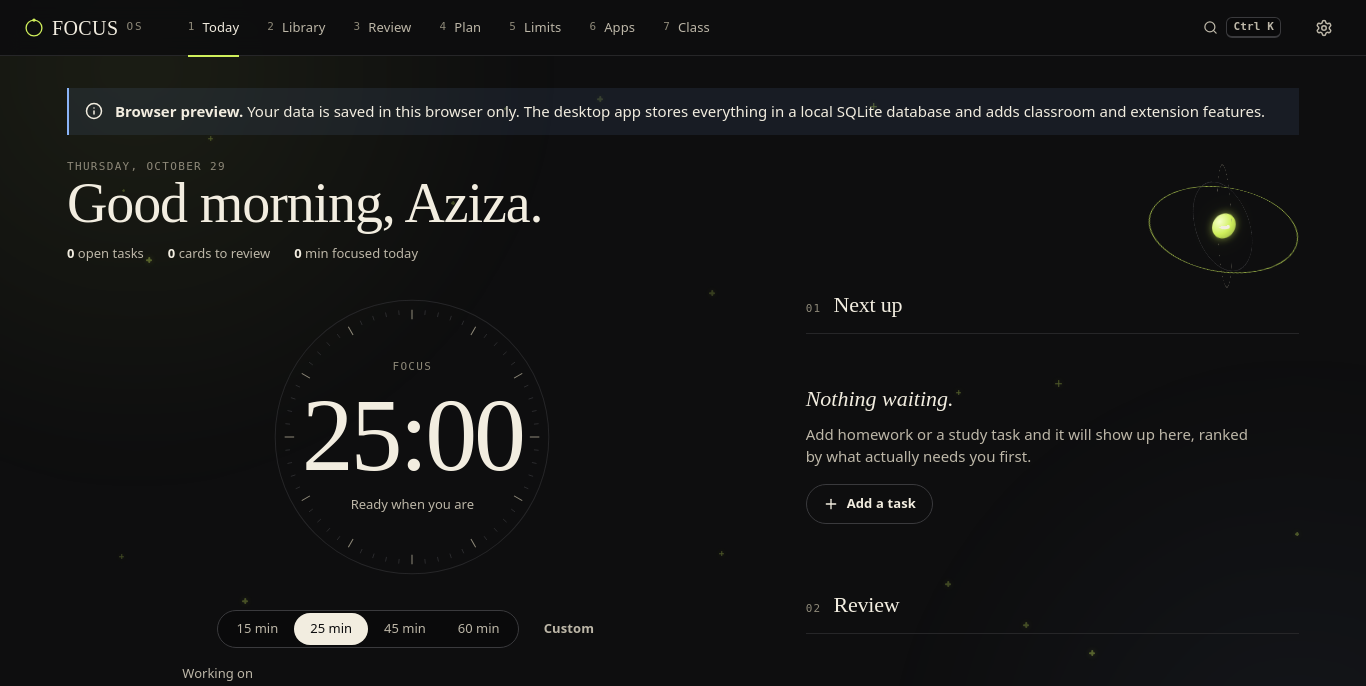
it: navigation, palette and shortcuts › number keys and the command palette move between sections
Check: the text "25:00" is shown, box [302,383,523,487]
Type keys "4"
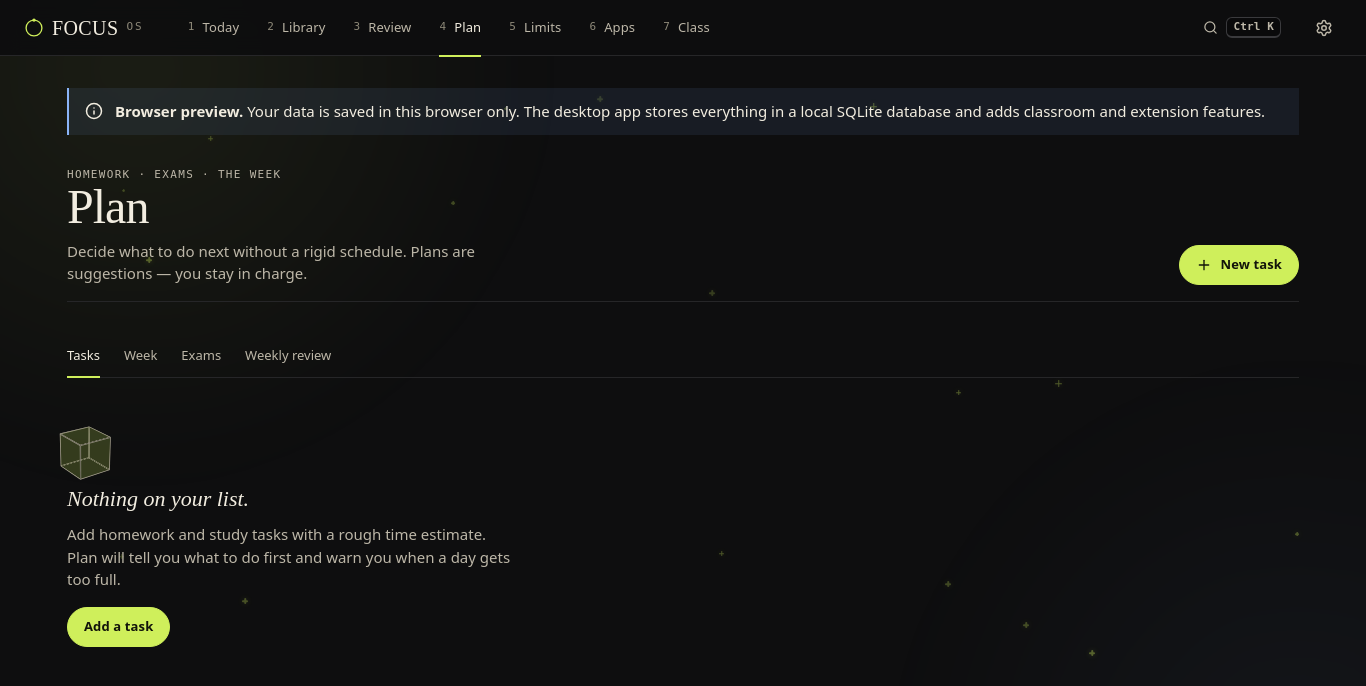
Check: the heading "Plan" is shown, box [67,180,148,233]
Type keys "{Control>}k{/Control}"
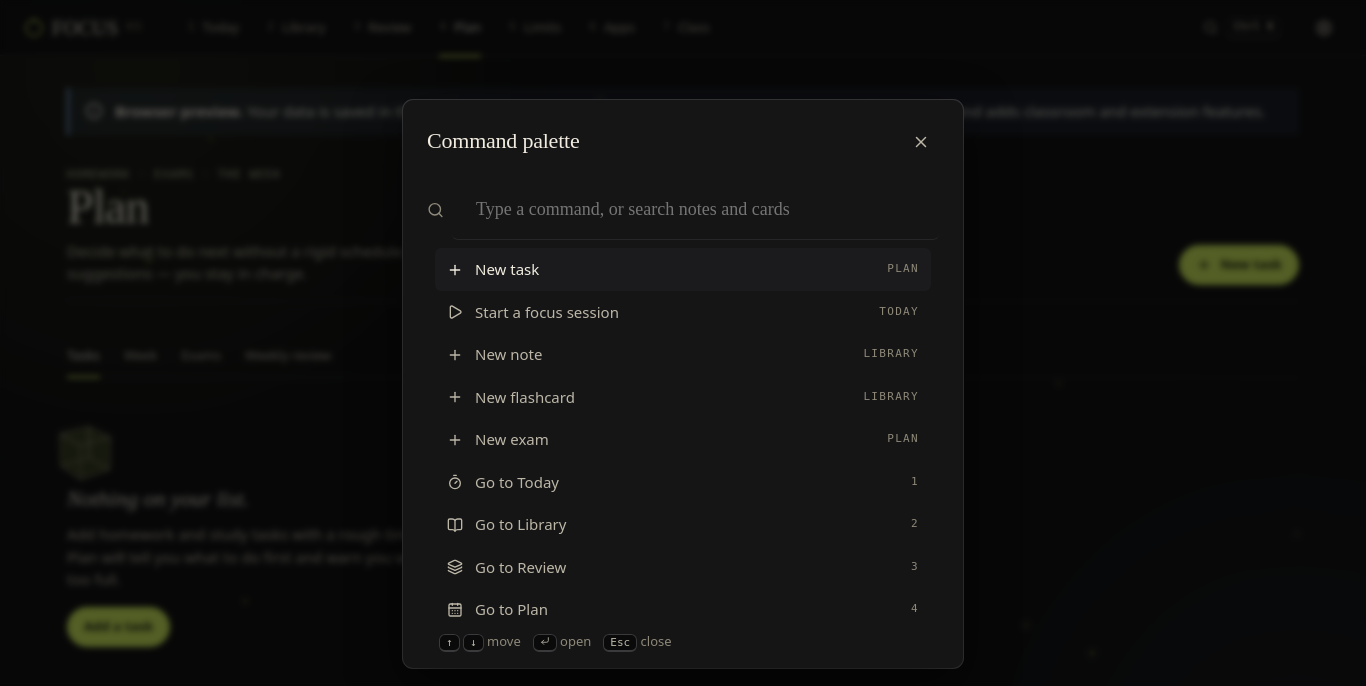
In the dropdown named "search commands, notes and cards": (696, 210) [452,180,939,240], type "limits"
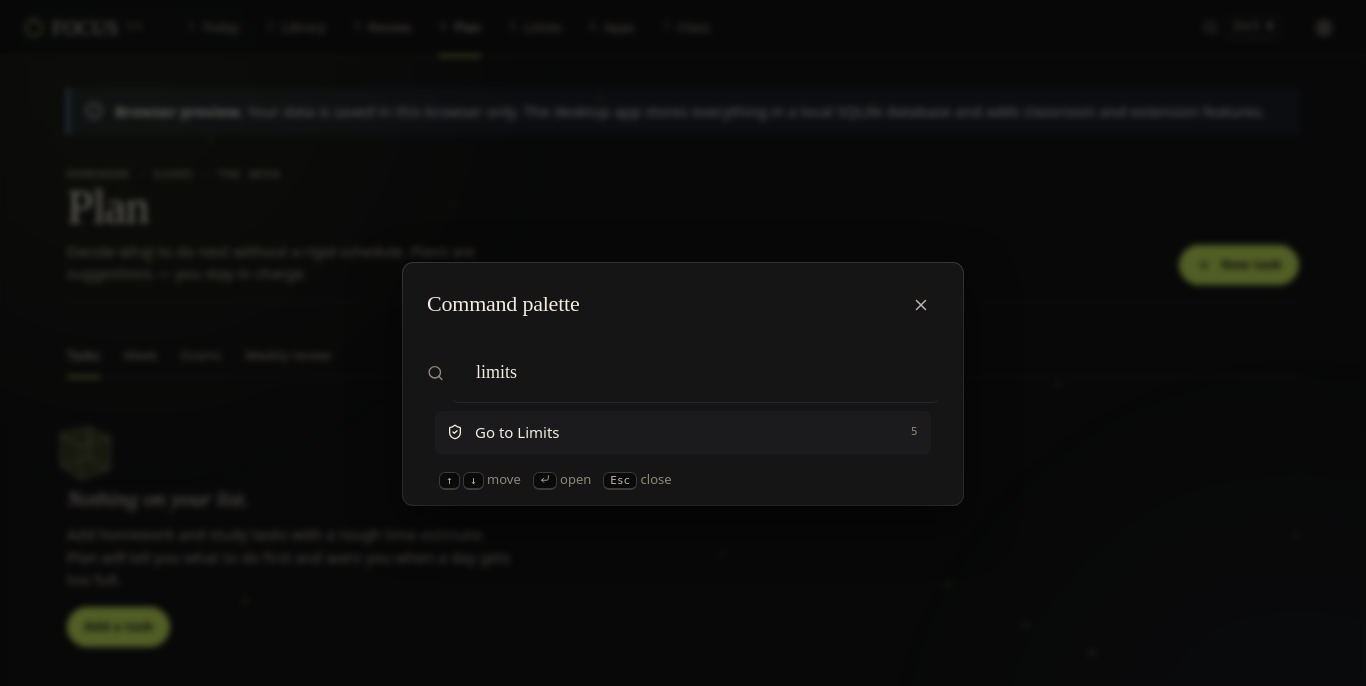
Press Enter
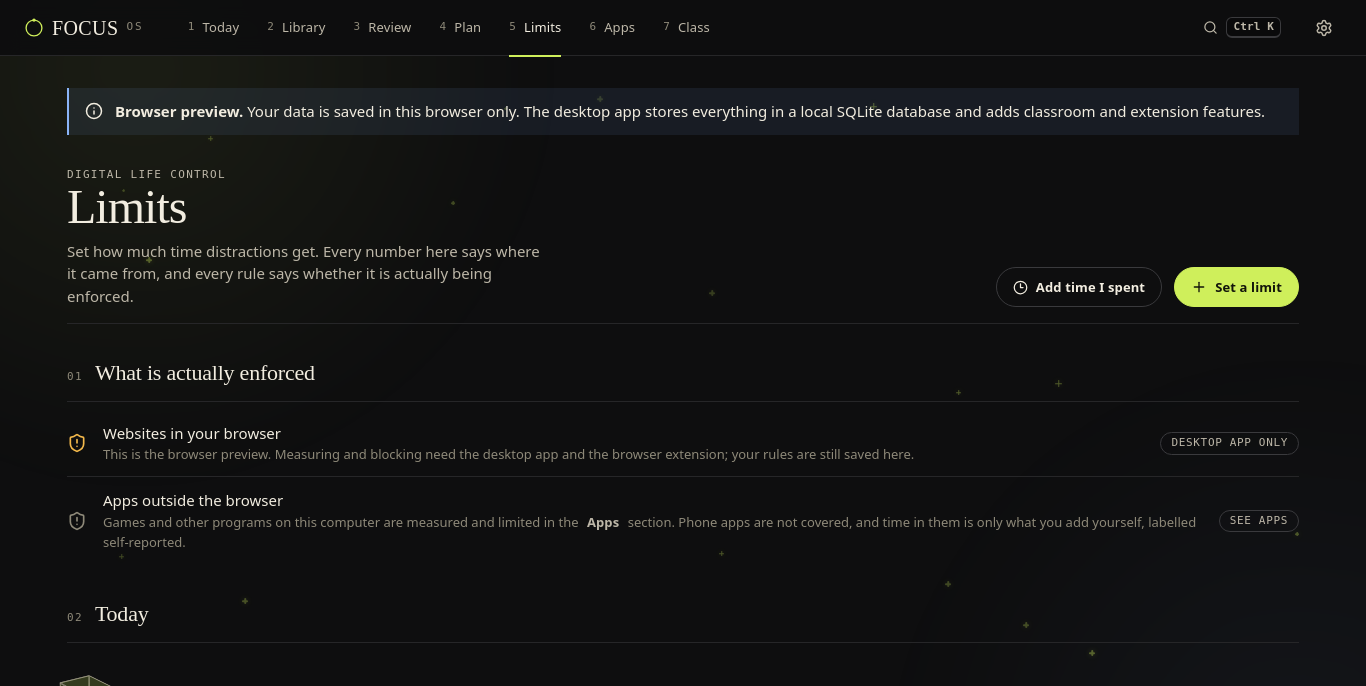
Check: the heading "Limits" is shown, box [67,180,187,233]
